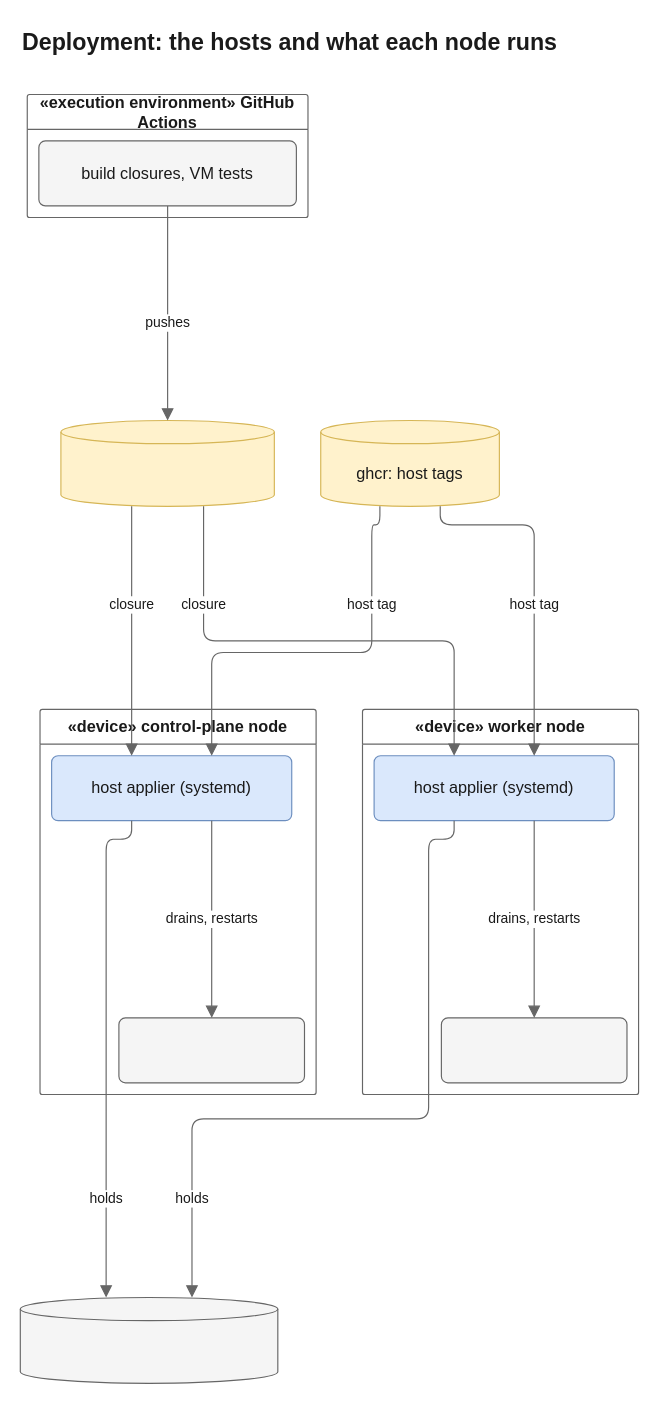
Image size: 659x1404. Some labels were removed from this diagram. Here are the shapes that lost their labels. From the top down, the centre of each, then its label:
At (167,462): "signed binary cache".
At (211,1050): "k3s server".
At (533,1050): "k3s agent".
At (148,1339): "Lease, in the API server".
